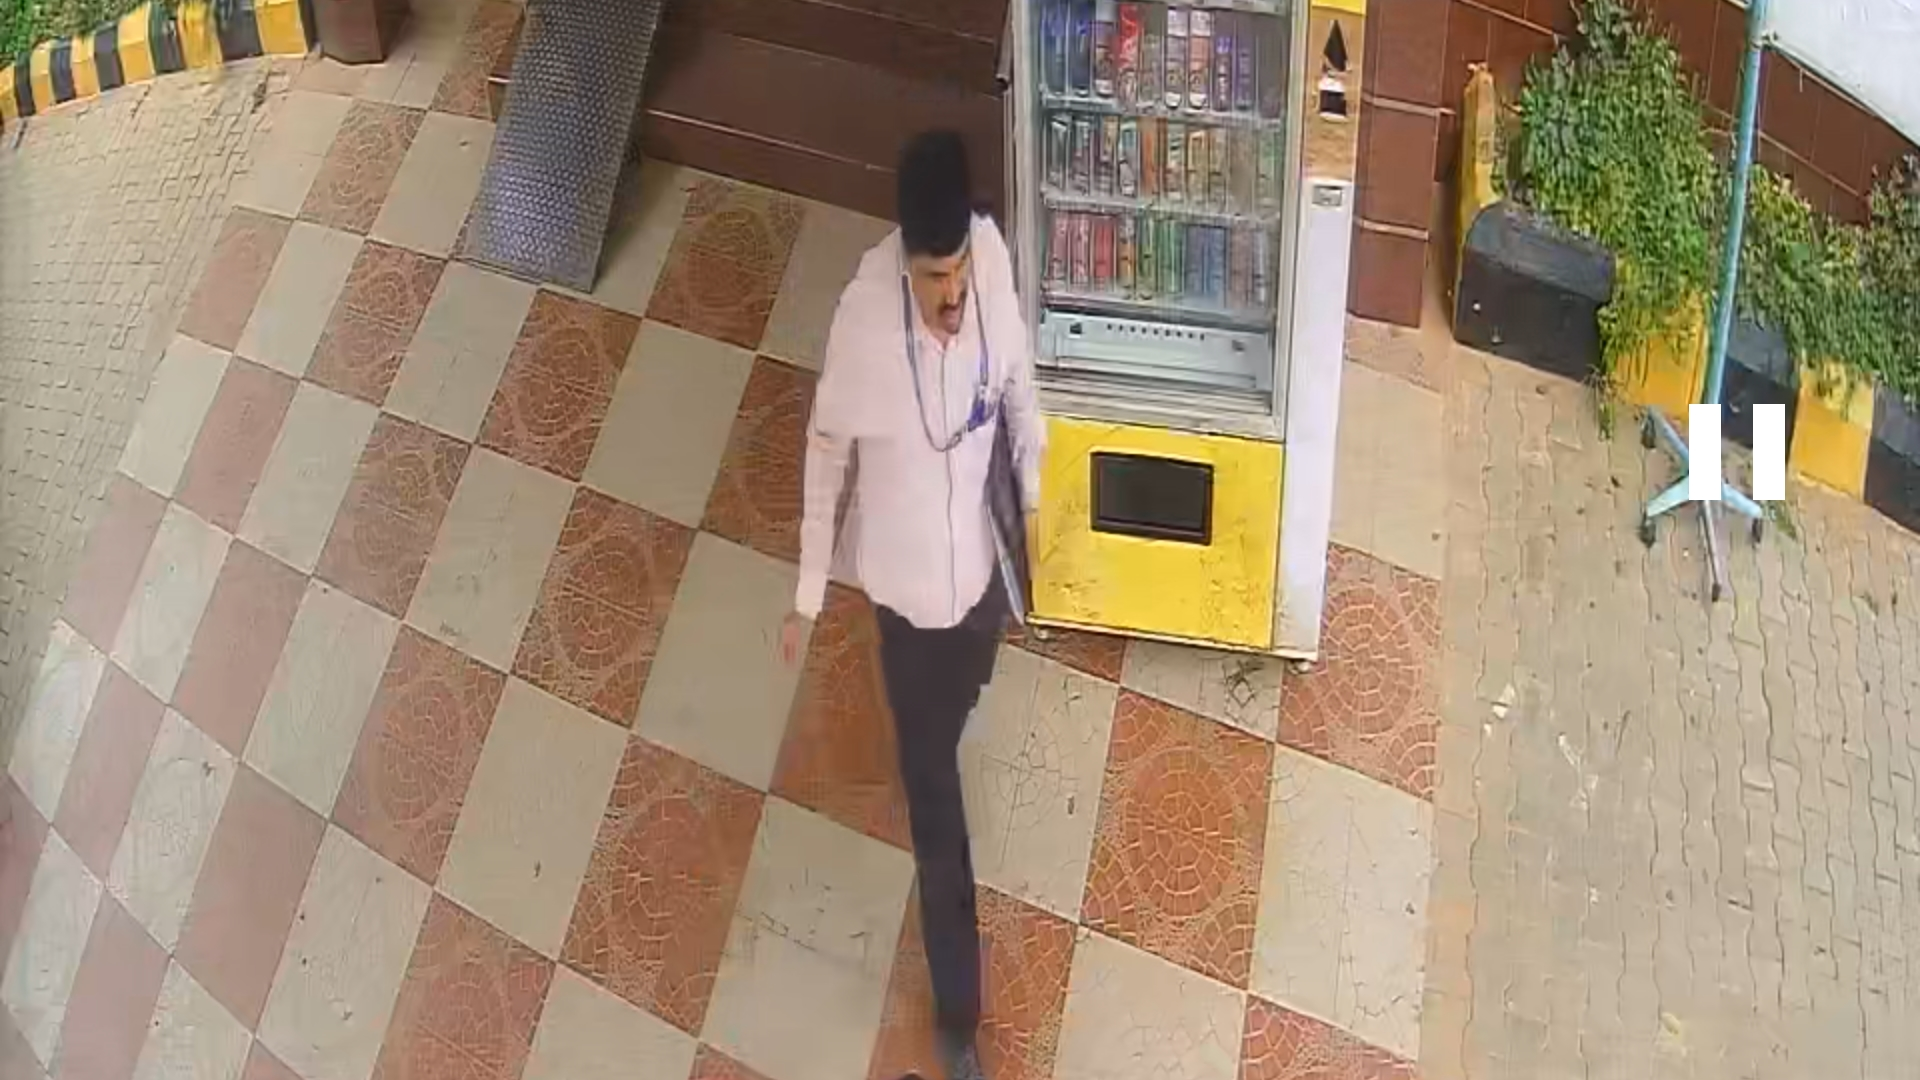not intruder: (808, 142, 1077, 1054)
